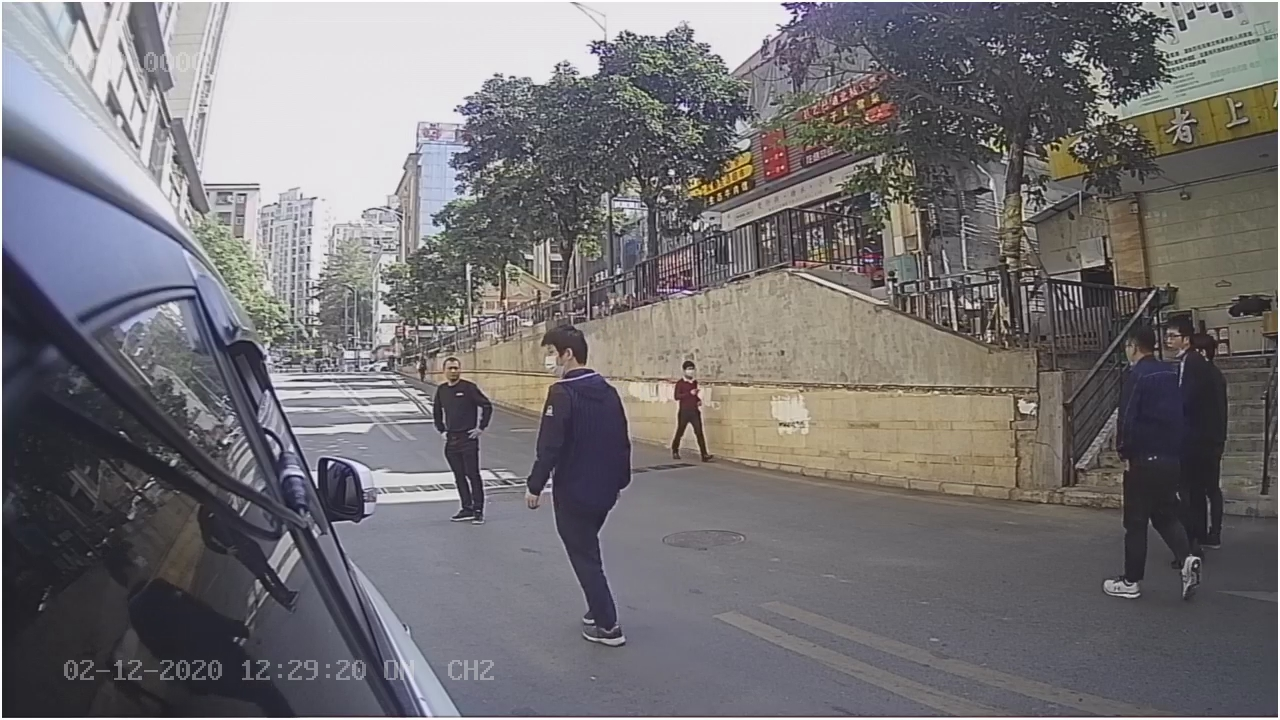person: (521, 312, 649, 647), (418, 347, 504, 538)
